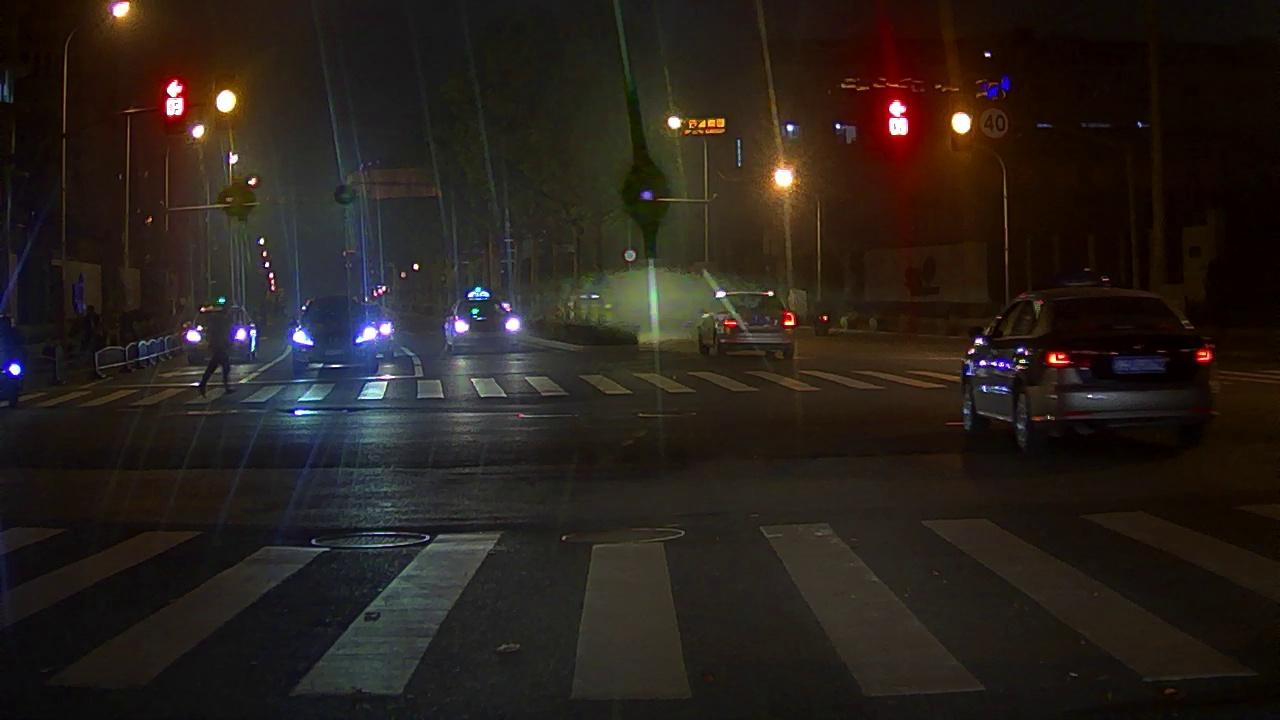traffic_light: (166, 78, 182, 123), (890, 102, 908, 138), (953, 111, 972, 137), (216, 92, 235, 113)
